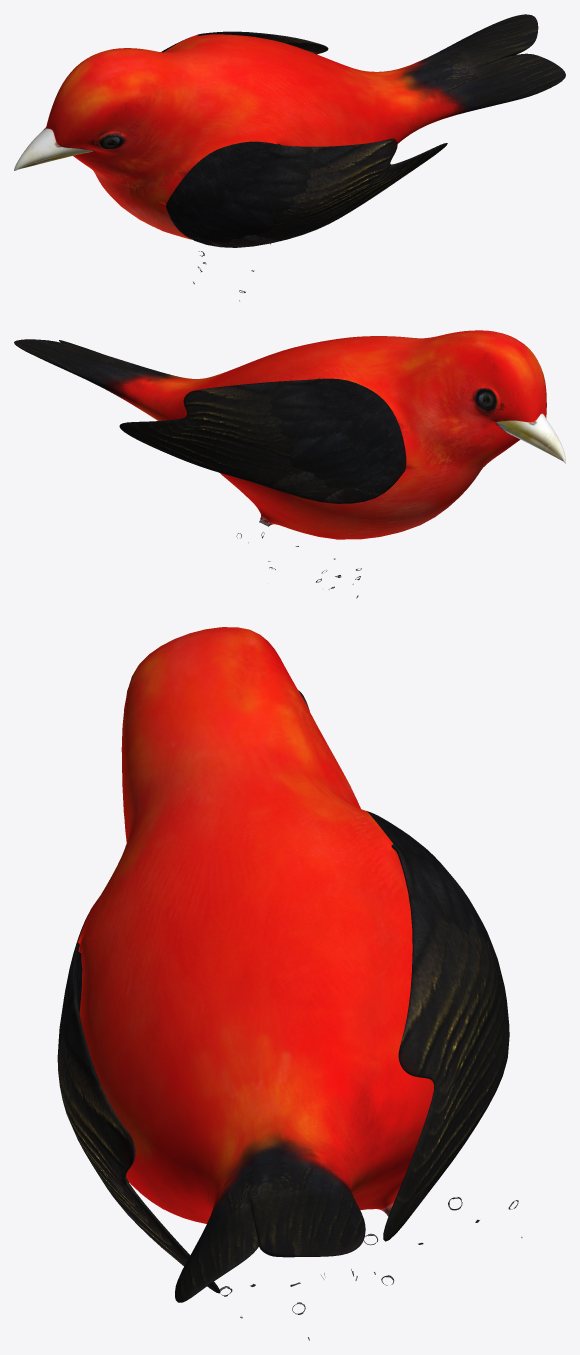
The picture shows the model from 3 angles, top to bottom: view 1: azimuth 30°, elevation 25°; view 2: azimuth 150°, elevation 25°; view 3: azimuth 270°, elevation 25°; orthographic projection. The views are drawn at different scales.
Parts seen in each view (by area): view 1: 12212_Bird_v1_l2; view 2: 12212_Bird_v1_l2; view 3: 12212_Bird_v1_l2.
Part boxes in pixels (x1,y1,x2,y2): 12212_Bird_v1_l2: (14,14,565,301); 12212_Bird_v1_l2: (14,330,565,598); 12212_Bird_v1_l2: (57,627,522,1340).
Size of the model in its own units: 6.46 by 3.22 by 2.45.
1 material, 1 textured.
